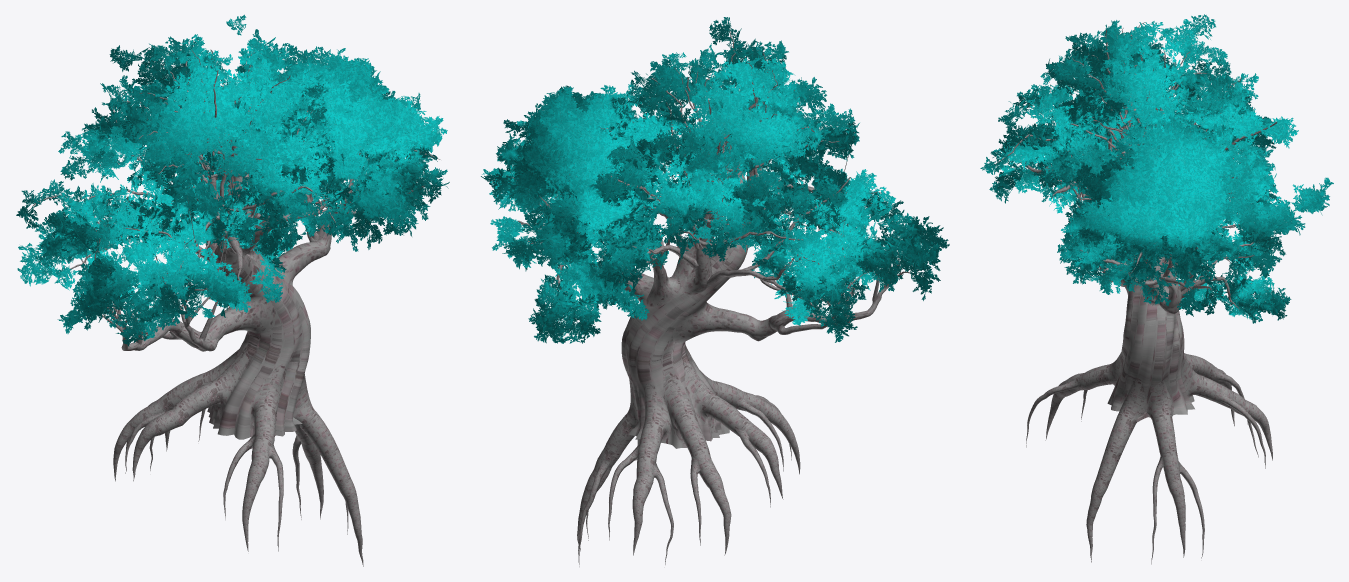
3 renders of one model, left to right at view 1: azimuth 30°, elevation 25°; view 2: azimuth 150°, elevation 25°; view 3: azimuth 270°, elevation 25°, orthographic. The views are drawn at different scales.
Visible parts, largest first — view 1: SM_Crystal_Tree_01_LOD0; view 2: SM_Crystal_Tree_01_LOD0; view 3: SM_Crystal_Tree_01_LOD0.
Part boxes in pixels (<box>): SM_Crystal_Tree_01_LOD0: <box>16,14,449,566</box>; SM_Crystal_Tree_01_LOD0: <box>481,17,949,566</box>; SM_Crystal_Tree_01_LOD0: <box>980,14,1333,564</box>.
Size of the model in its own units: 23.6 by 29.7 by 19.56.
2 materials, 2 textured.
